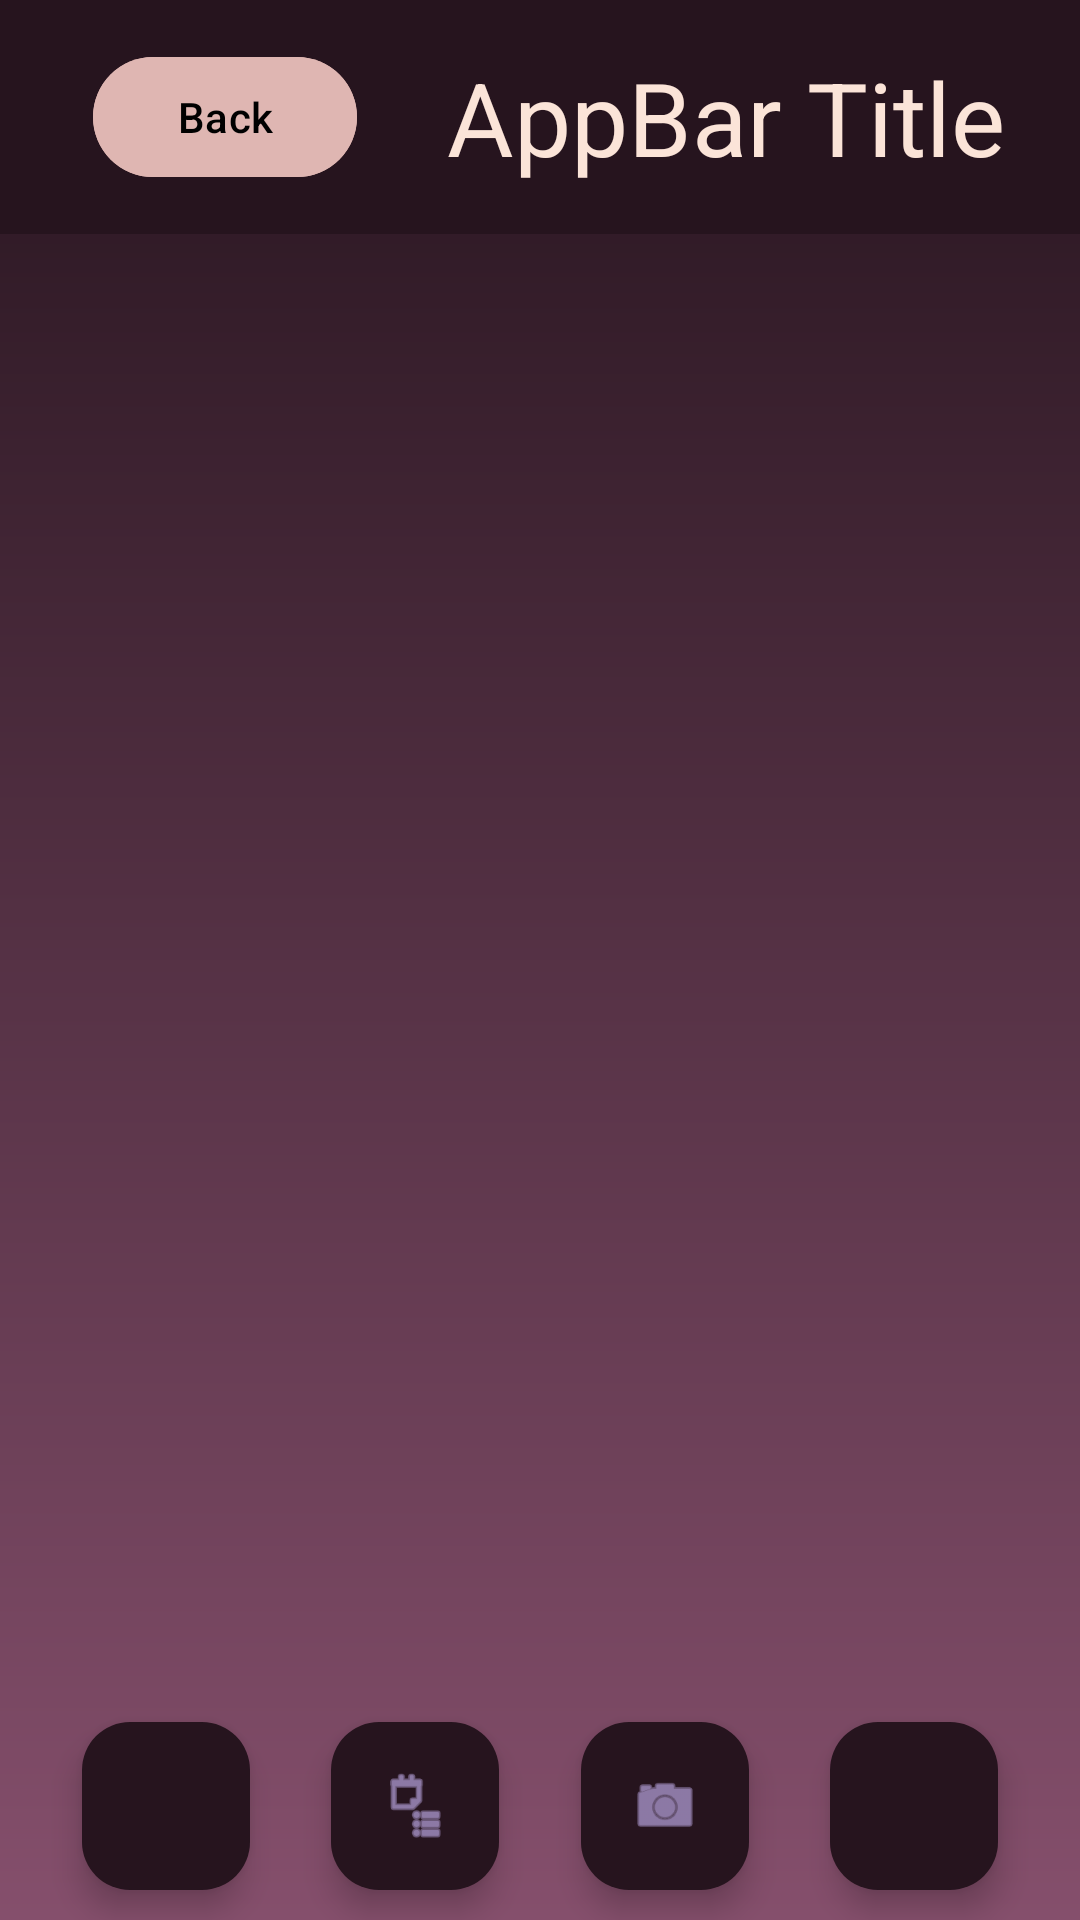

Locate icon controls on the screen. Image size 1080 x 1920, boxes as (x1, y1, x2, y2).
agenda: (331, 1722, 499, 1890)
camera: (581, 1722, 749, 1890)
